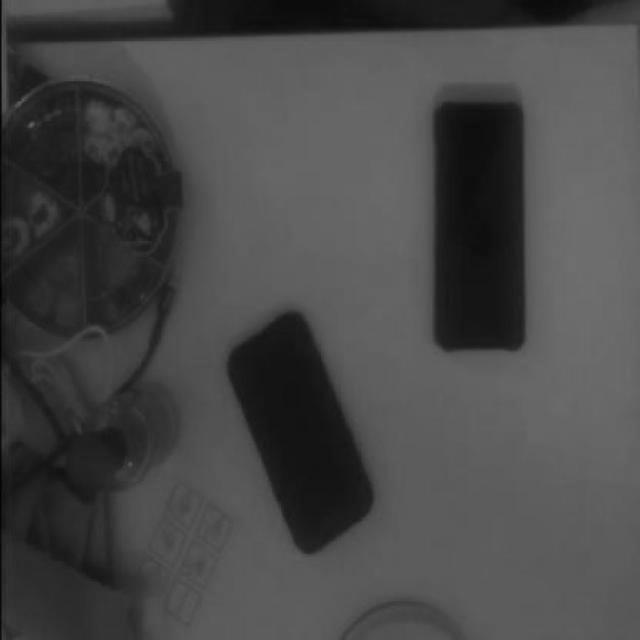fake: (227, 309, 378, 557), (428, 98, 526, 354)
